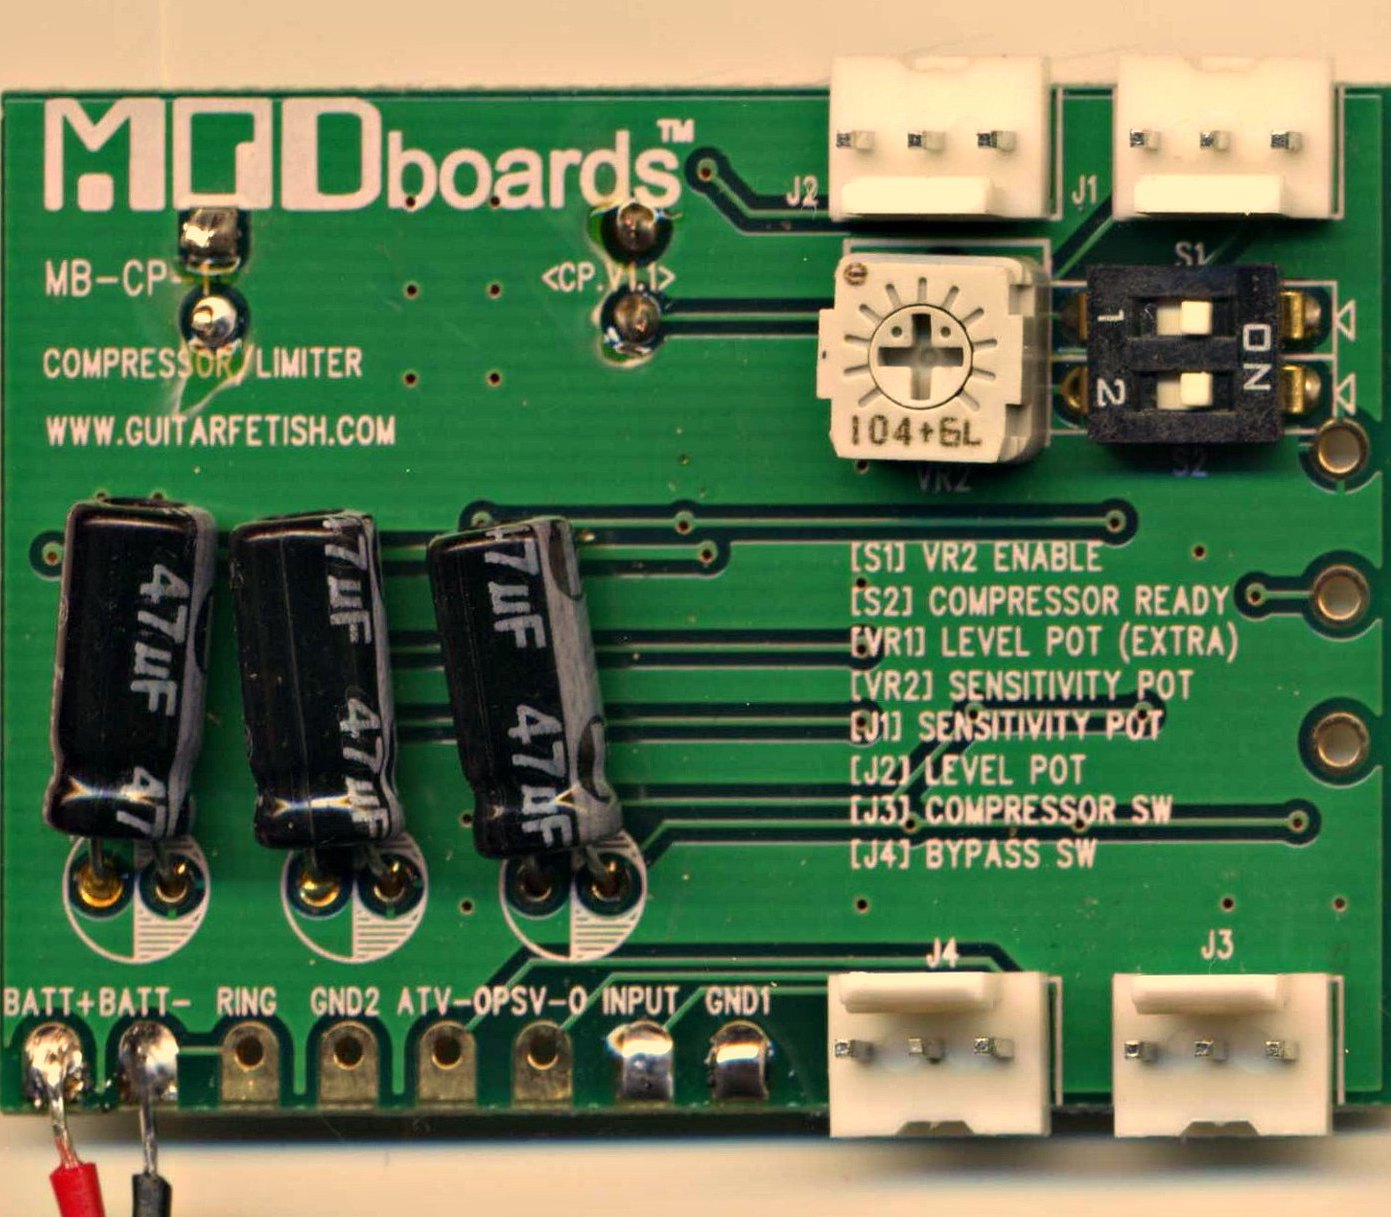Capacitor: (422, 501, 634, 862), (220, 501, 418, 863), (38, 485, 227, 857)
